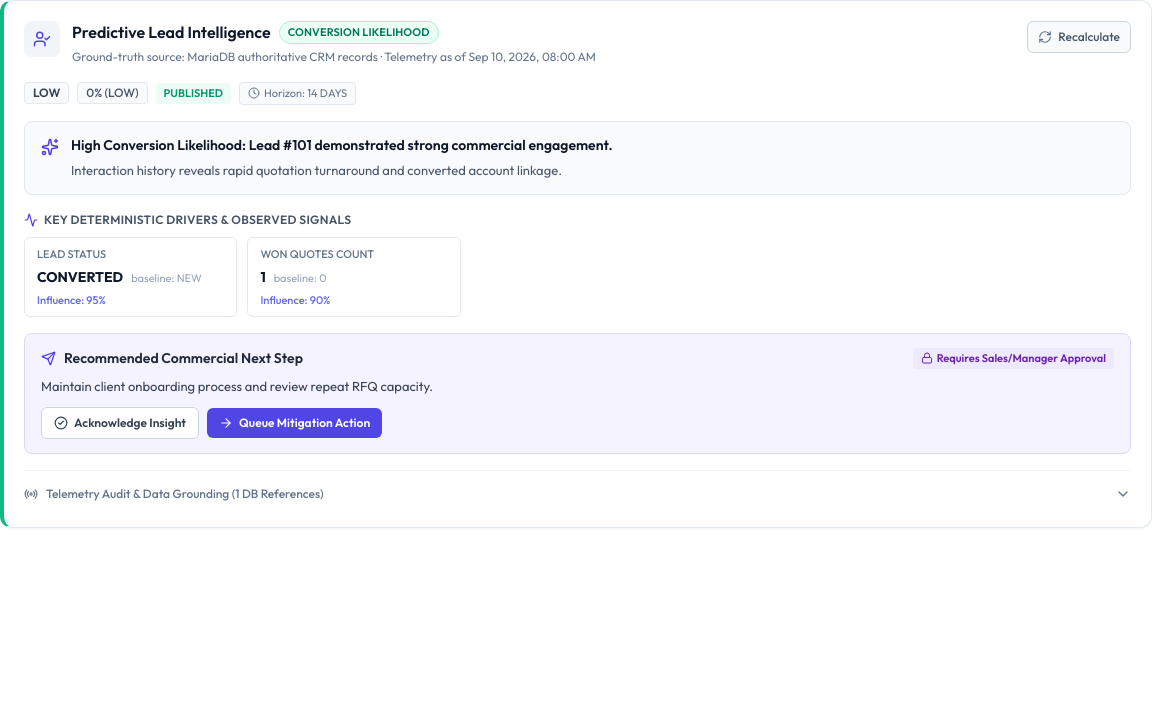
CustomerLeadPredictiveIntelligenceCard › toggles evidence accordion to show source records
Expected: the text "Telemetry Audit & Data Grounding (1 DB References)" is shown, x1=46 y1=485 x2=324 y2=503
Expected: the text "leads.status" is not shown
Click the button "Telemetry Audit & Data Grounding (1 DB References)" at (141, 493), box x1=24 y1=481 x2=1131 y2=507
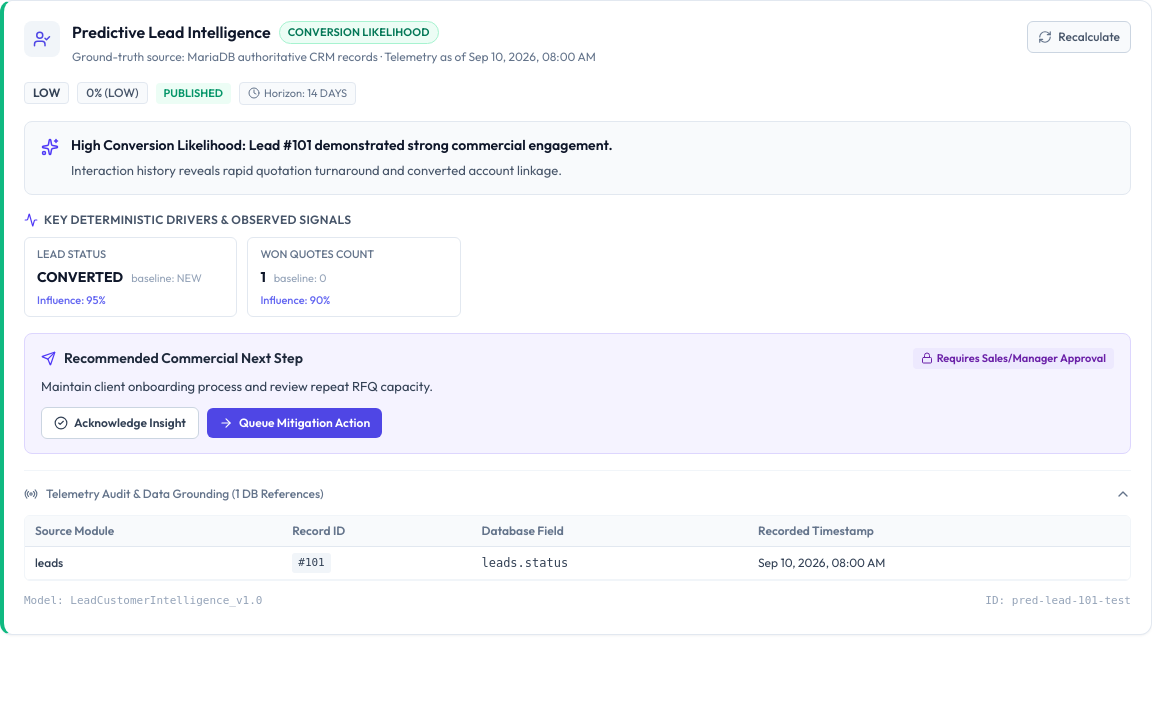
Now the text "leads.status" is shown, box x1=472 y1=546 x2=748 y2=580
Now the text "#101" is shown, box x1=292 y1=553 x2=331 y2=573
Now the text "Model: LeadCustomerIntelligence_v1.0" is shown, box x1=24 y1=593 x2=262 y2=610
